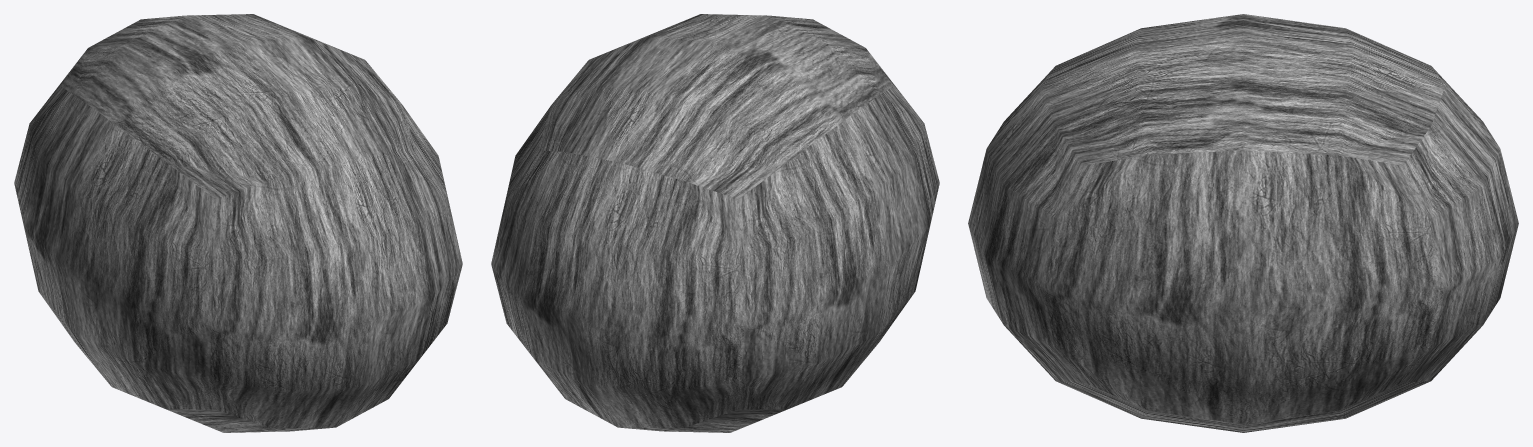
File: coconut.fbx
3 views of the same model, side by side, from view 1: azimuth 30°, elevation 25°; view 2: azimuth 150°, elevation 25°; view 3: azimuth 270°, elevation 25° (orthographic). The views are drawn at different scales.
Visible parts, largest first — view 1: Box; view 2: Box; view 3: Box.
Boxes of the visible parts, box(x1,y1,x2,y2) form: Box: box(14, 14, 462, 432); Box: box(491, 14, 939, 432); Box: box(968, 14, 1518, 432).
Bounding box in the file's own units: 31.63 × 31.63 × 42.17.
